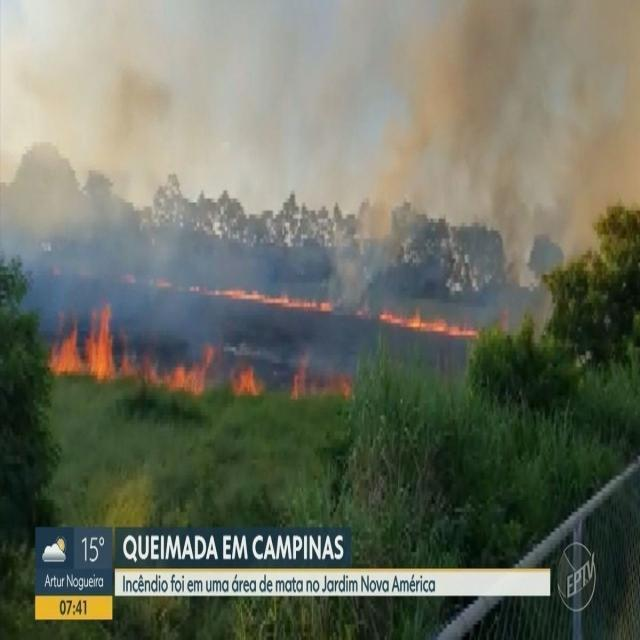Fire: (46, 304, 216, 394), (214, 280, 332, 312), (379, 306, 476, 338), (228, 358, 260, 398)
Smoke: (3, 6, 627, 366), (334, 132, 427, 308), (99, 64, 182, 243), (492, 159, 541, 298), (498, 276, 564, 356)
